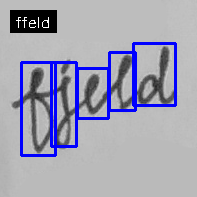d: (136, 43, 179, 106)
e: (81, 72, 103, 117)
f: (26, 65, 53, 154)
j: (54, 57, 75, 152)
l: (112, 52, 134, 111)
